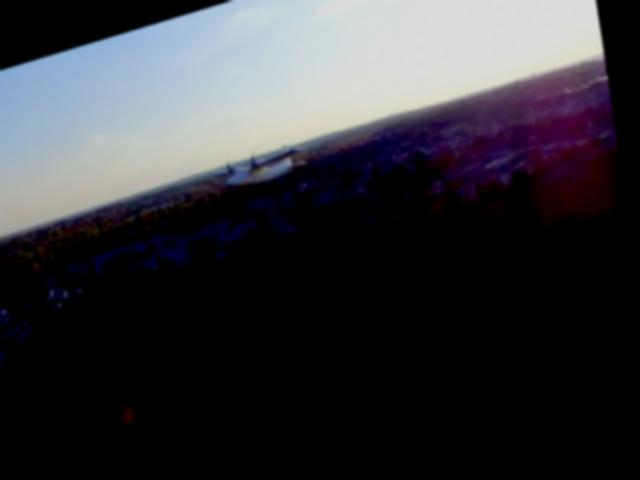uav: (211, 143, 316, 204)
